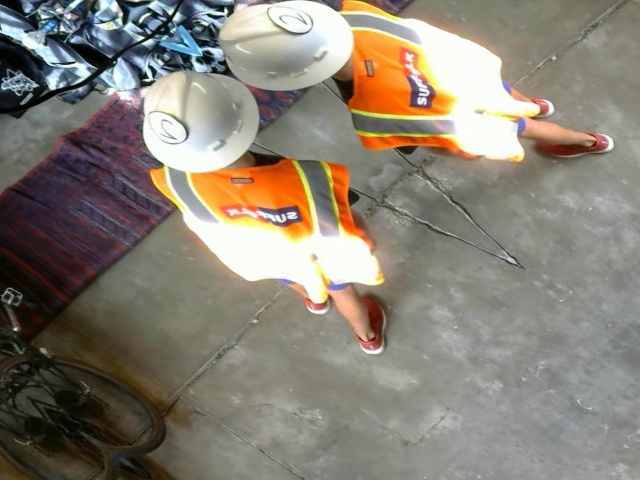two: (133, 105, 194, 150)
